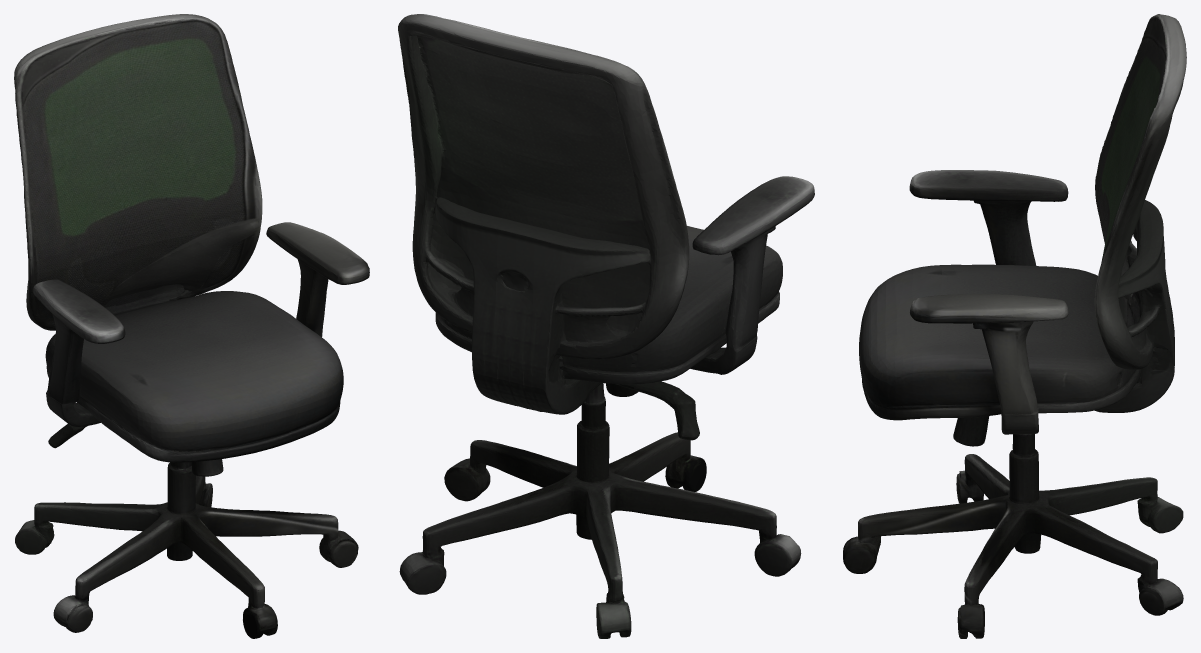
The model's file is reception_chair.glb.
3 renders of one model, left to right at view 1: azimuth 30°, elevation 25°; view 2: azimuth 150°, elevation 25°; view 3: azimuth 270°, elevation 25°, orthographic. The views are drawn at different scales.
Visible parts, largest first — view 1: geometry_0; view 2: geometry_0; view 3: geometry_0.
Part boxes in pixels (<box>): geometry_0: <box>14,14,369,638</box>; geometry_0: <box>398,14,814,638</box>; geometry_0: <box>843,14,1186,638</box>.
Bounding box in the file's own units: 0.6267 × 1 × 0.6038.
Materials: 1 (1 with a texture image).
